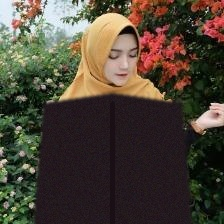Cadar_Niqab: (34, 8, 191, 224)
